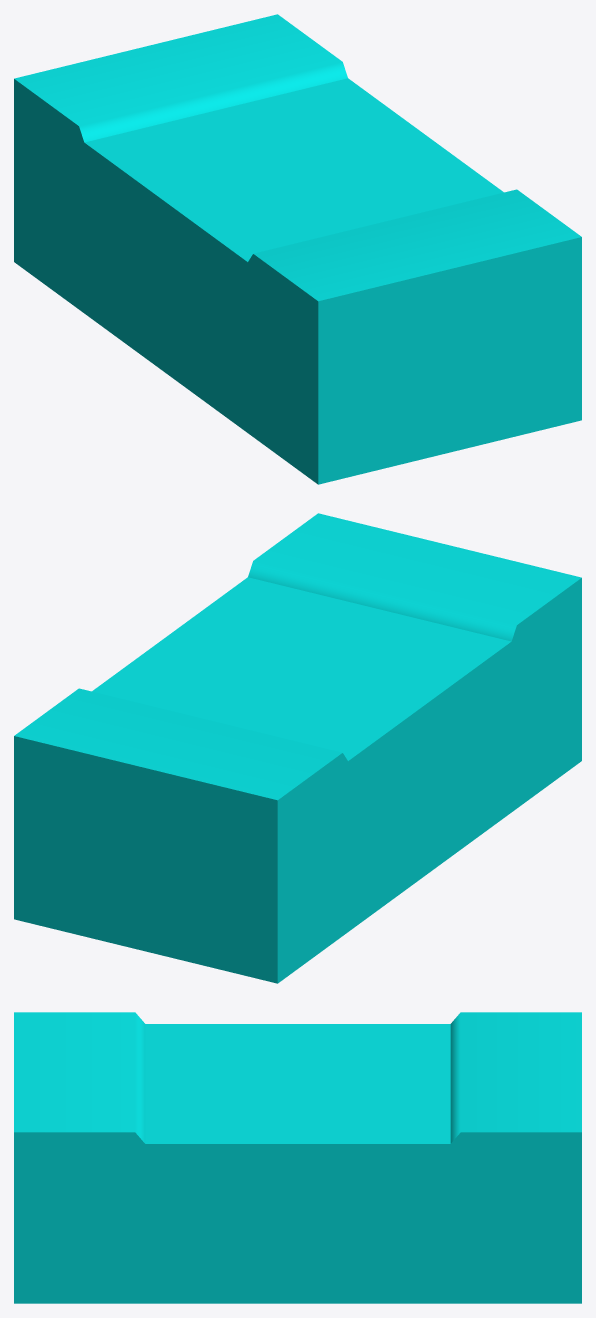
The model's file is SM_Bld_Bridge_L_Middle_01_Collision.fbx.
3 renders of one model, top to bottom at view 1: azimuth 30°, elevation 25°; view 2: azimuth 150°, elevation 25°; view 3: azimuth 270°, elevation 25°, orthographic. The views are drawn at different scales.
Visible parts, largest first — view 1: SM_Bld_Bridge_L_Middle_01_Collision; view 2: SM_Bld_Bridge_L_Middle_01_Collision; view 3: SM_Bld_Bridge_L_Middle_01_Collision.
Part boxes in pixels (x1,y1,x2,y2): SM_Bld_Bridge_L_Middle_01_Collision: [14, 14, 581, 484]; SM_Bld_Bridge_L_Middle_01_Collision: [14, 513, 581, 983]; SM_Bld_Bridge_L_Middle_01_Collision: [14, 1012, 581, 1303].
Size of the model in its own units: 250 by 166 by 500.
